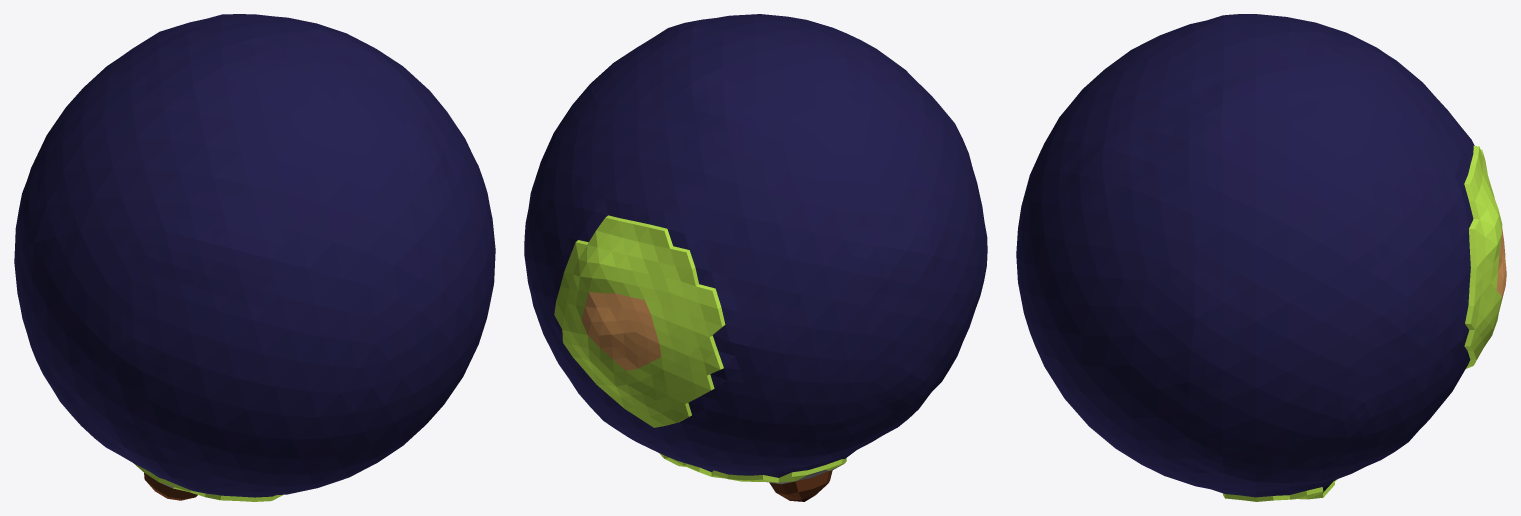
Rendered from Planet5.fbx.
The picture shows the model from 3 angles, left to right: view 1: azimuth 30°, elevation 25°; view 2: azimuth 150°, elevation 25°; view 3: azimuth 270°, elevation 25°; orthographic projection. The views are drawn at different scales.
Visible parts, largest first — view 1: Planet5; view 2: Planet5; view 3: Planet5.
Part boxes in pixels (box(x1,y1,x2,y2)): Planet5: box(14, 14, 495, 501); Planet5: box(524, 14, 987, 501); Planet5: box(1016, 14, 1506, 501).
Size of the model in its own units: 200 by 209 by 205.
